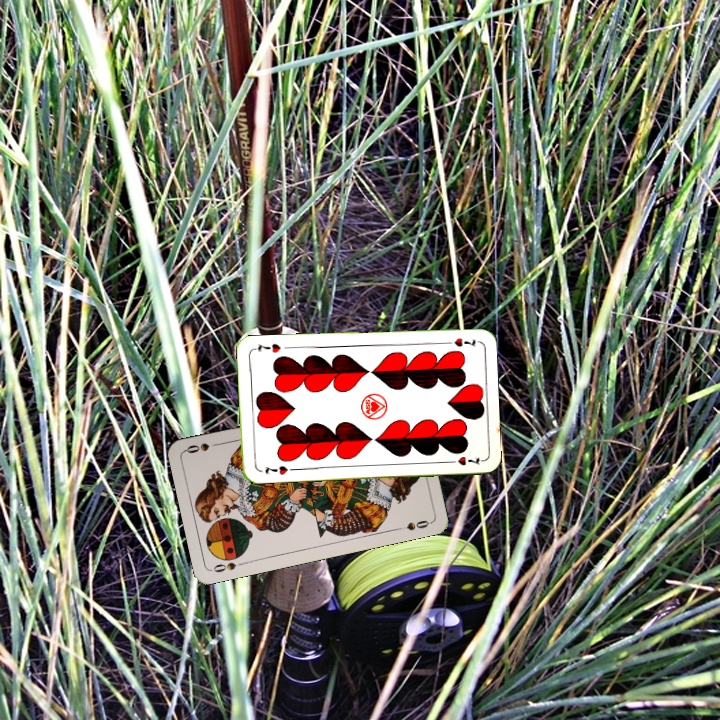H7: (439, 334, 478, 350), (261, 461, 290, 477)
SO: (208, 558, 239, 575)
